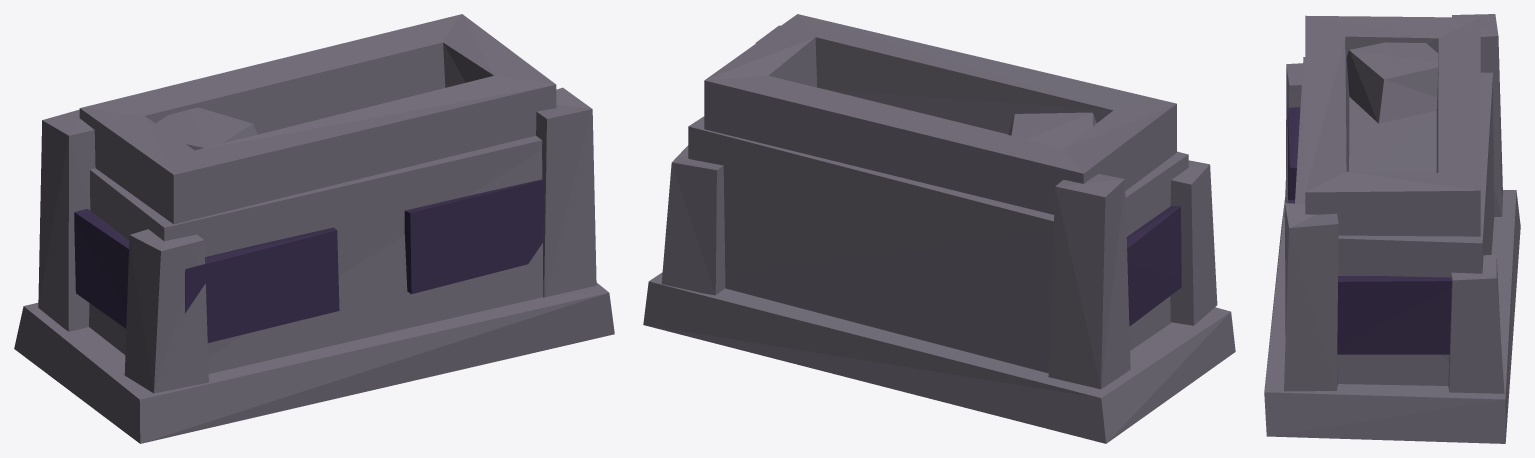
File: CR_Reliquary.fbx
3 views of the same model, side by side, from view 1: azimuth 30°, elevation 25°; view 2: azimuth 150°, elevation 25°; view 3: azimuth 270°, elevation 25° (orthographic). The views are drawn at different scales.
Visible parts, largest first — view 1: CR_Reliquary_Stone, CR_Reliquary_Trim; view 2: CR_Reliquary_Stone, CR_Reliquary_Trim; view 3: CR_Reliquary_Stone, CR_Reliquary_Trim.
Boxes of the visible parts, left/top/right/bottom form: CR_Reliquary_Stone: left=14, top=14, right=614, bottom=443; CR_Reliquary_Trim: left=74, top=179, right=543, bottom=342; CR_Reliquary_Stone: left=643, top=14, right=1235, bottom=443; CR_Reliquary_Trim: left=1126, top=206, right=1181, bottom=326; CR_Reliquary_Stone: left=1264, top=14, right=1520, bottom=443; CR_Reliquary_Trim: left=1287, top=99, right=1451, bottom=354.
Bounding box in the file's own units: 8 × 4 × 4.
